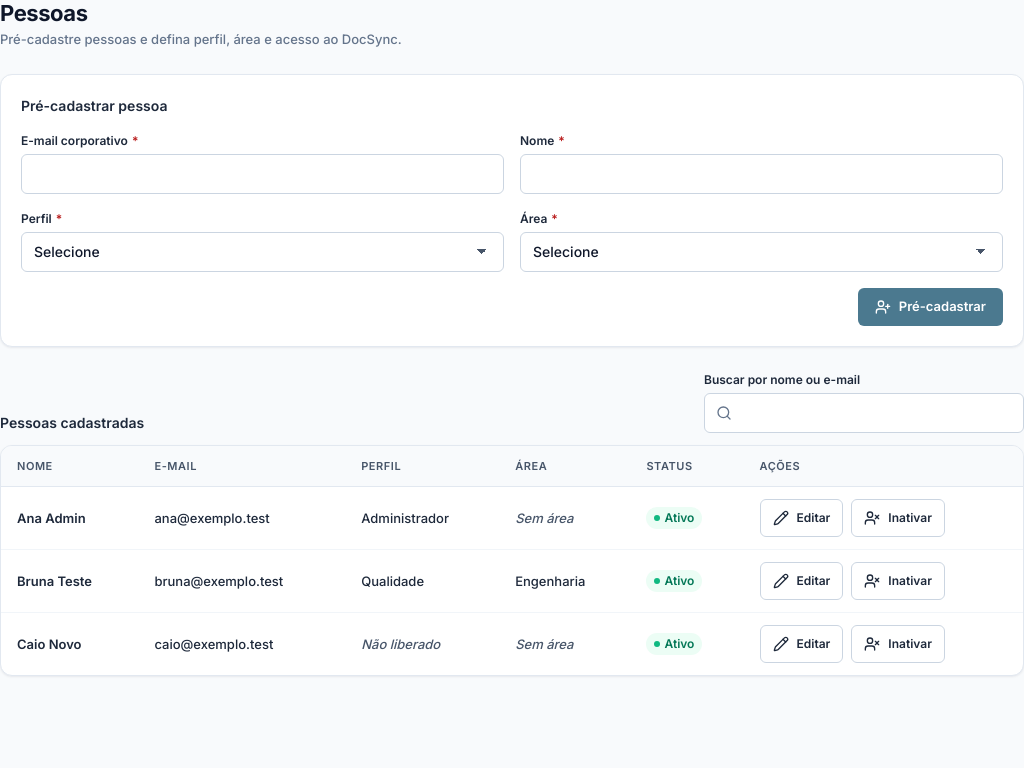
TelaPessoas › edita perfil e área enviando só o que mudou
Click the button with aria-label "Editar Bruna Teste" at (801, 581), box x1=760 y1=562 x2=843 y2=600
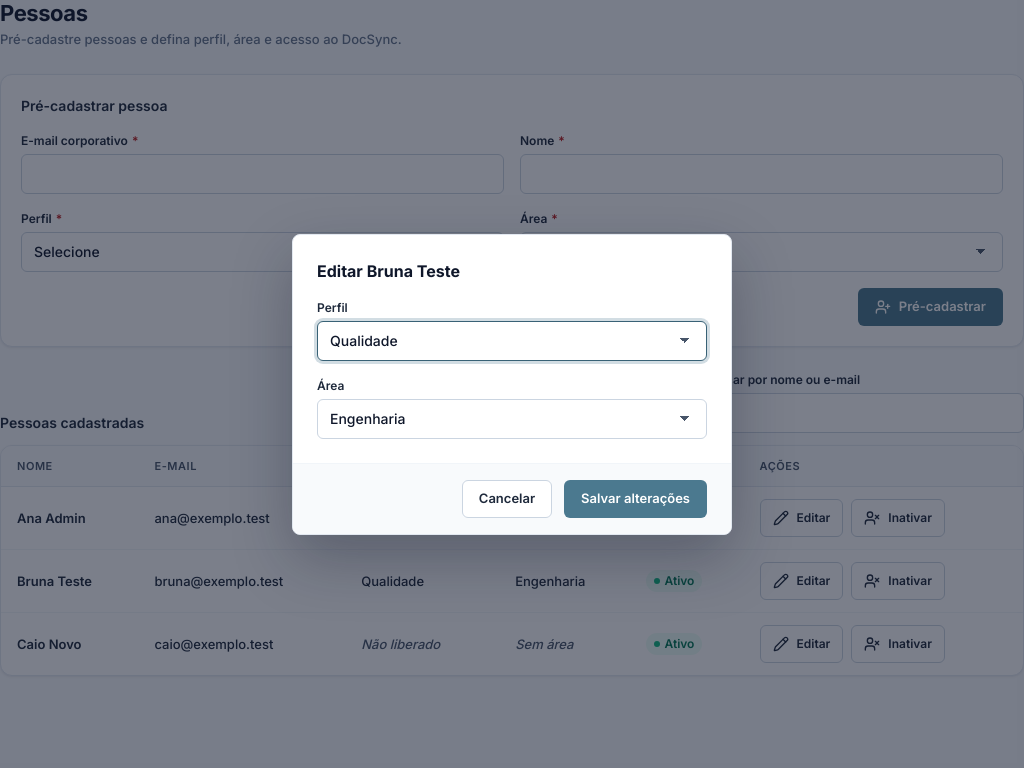
Select "Leitor" in the dropdown labelled "Perfil" at (512, 340), box x1=317 y1=320 x2=707 y2=360
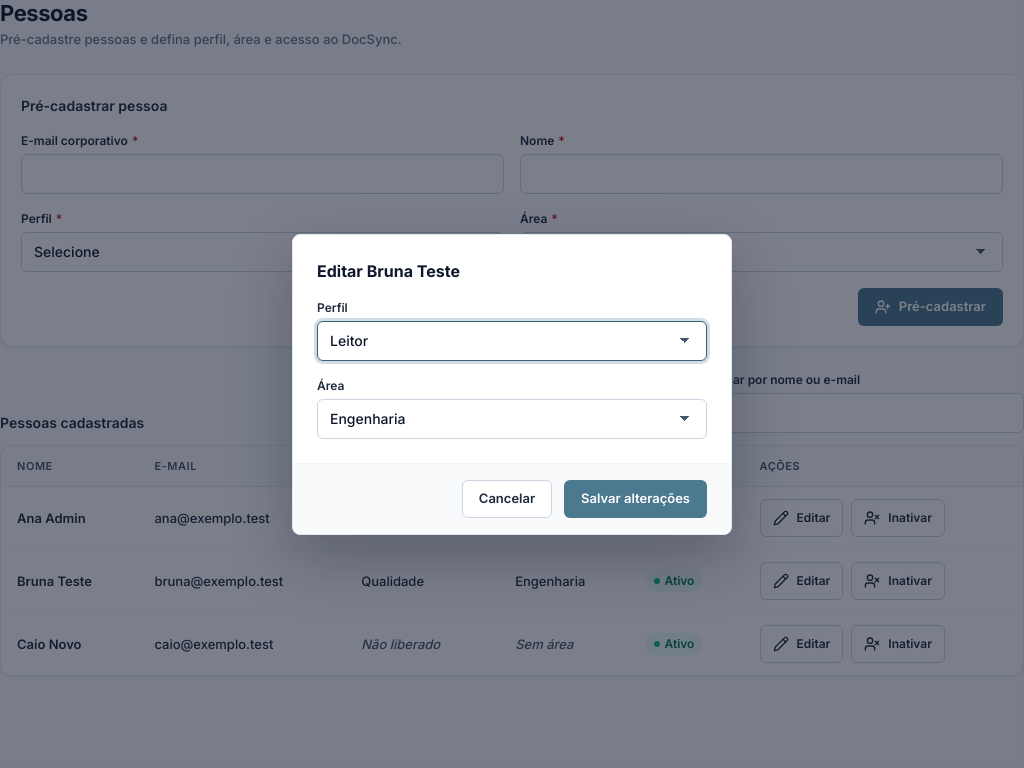
Select "Comercial" in the dropdown labelled "Área" at (512, 418), box x1=317 y1=398 x2=707 y2=438
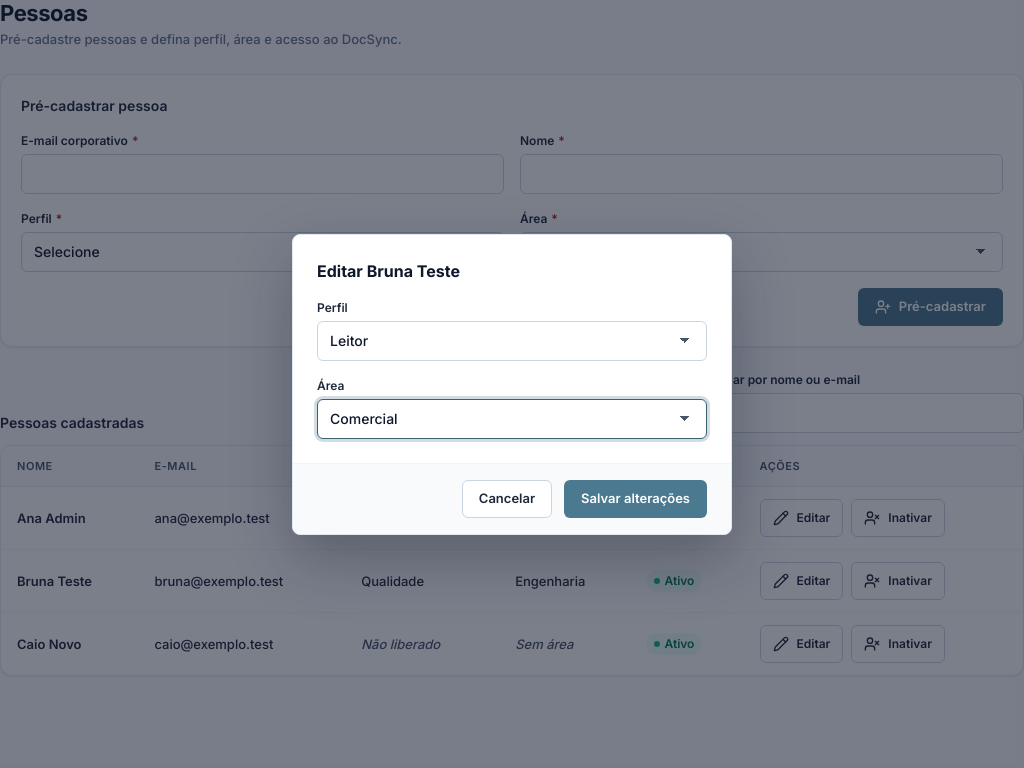
Click the button "Salvar alterações" at (636, 498), box x1=564 y1=480 x2=707 y2=518
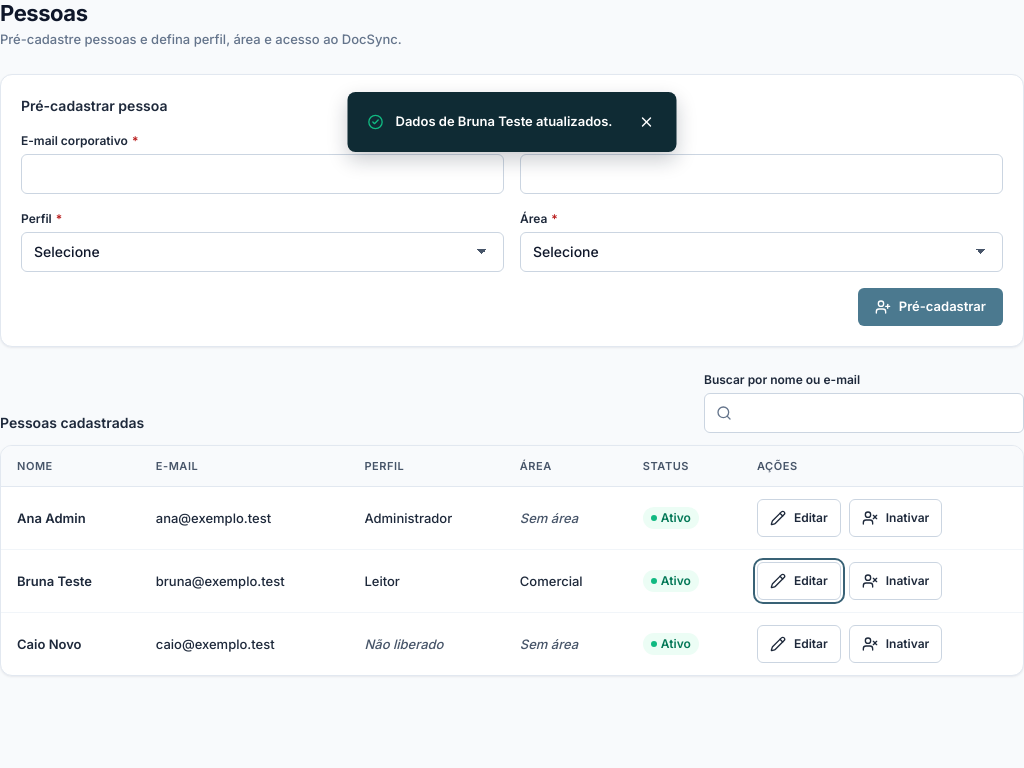
Check: the text "Dados de Bruna Teste atualizados." is shown, box x1=396 y1=112 x2=612 y2=132
